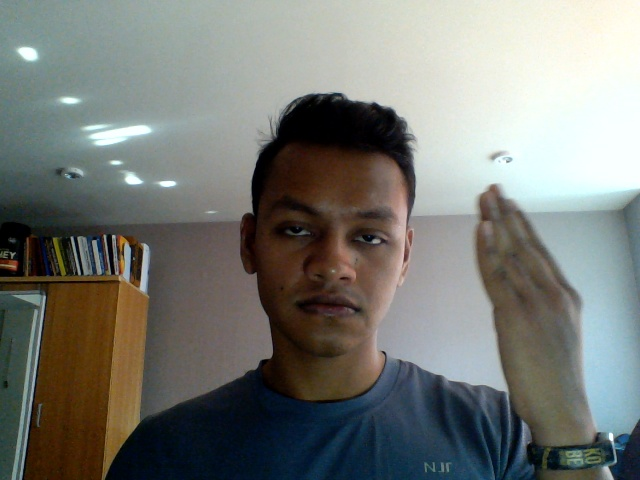Thank You: (441, 165, 609, 454)
